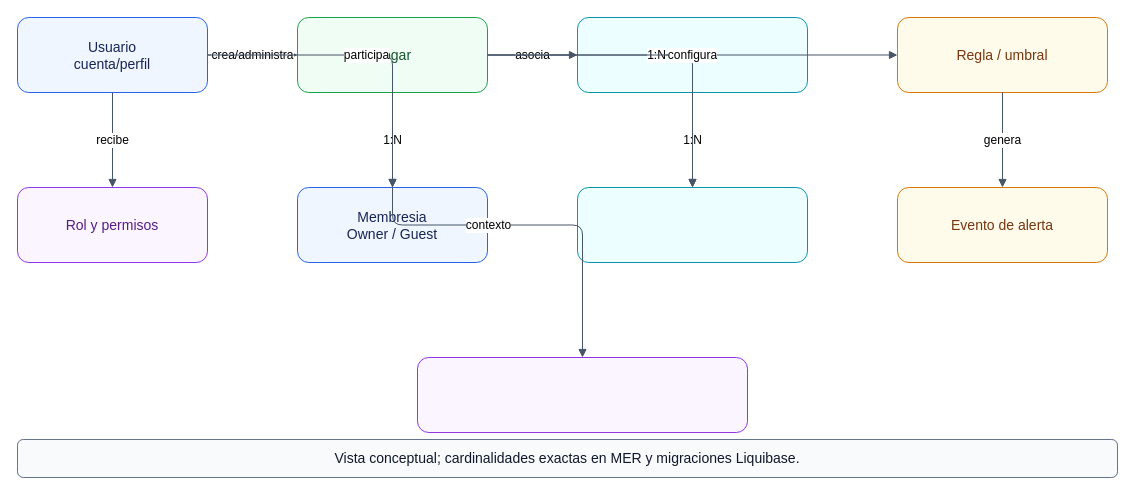
Some shapes in this 1135 by 495 pixel diagram are drawn without their labels. The box of each missing label's shape, as (x1, y1, x2, y2) in pixels:
Dispositivo deviceCode / hardwareId: (576, 16, 808, 92)
Lectura caudal/pulsos/volumen: (576, 186, 808, 262)
Metas - reportes - recomendaciones - tickets: (416, 356, 748, 432)
